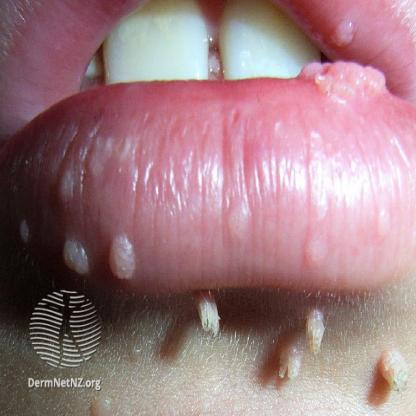Warts: (370, 338, 414, 406), (181, 281, 225, 340), (103, 227, 144, 284), (54, 228, 94, 282), (272, 336, 309, 384), (305, 294, 328, 366)
